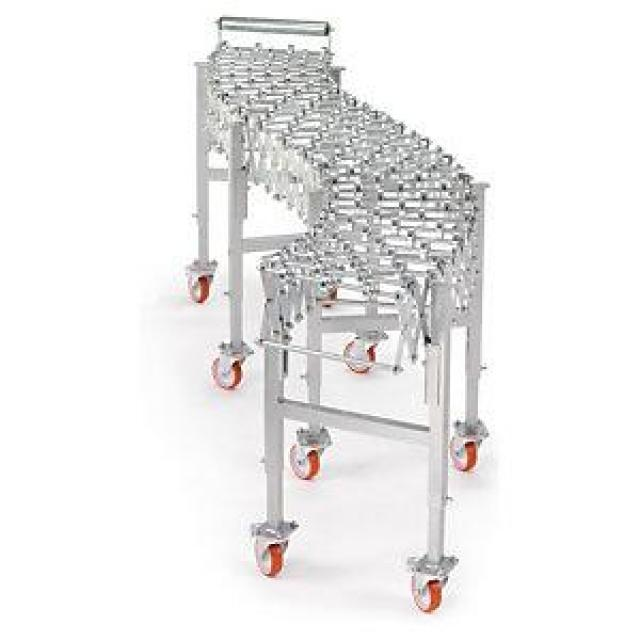Convoyeur: (191, 28, 502, 366)
